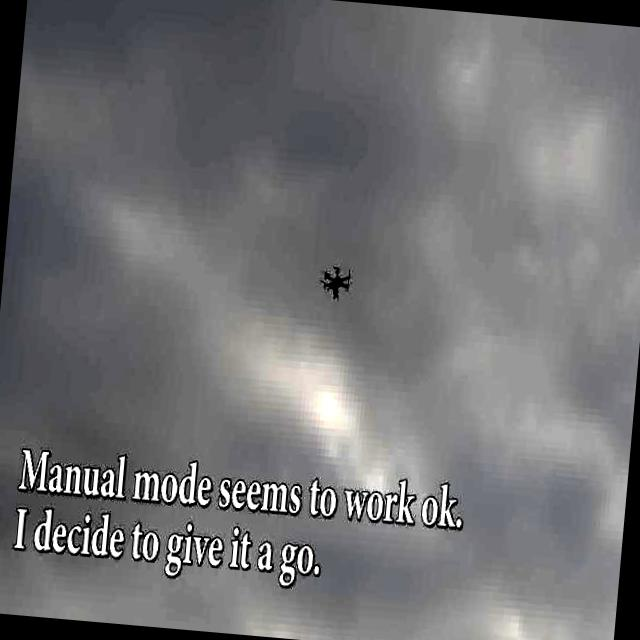drone: (319, 260, 354, 304)
